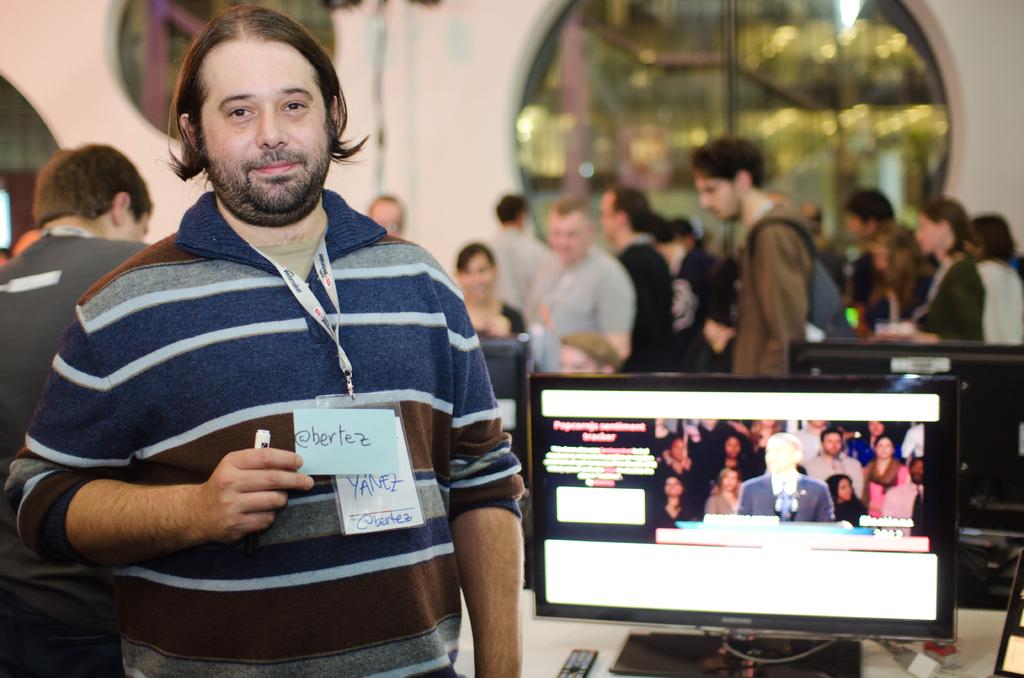Computer-monitor: (526, 360, 960, 658), (783, 336, 1023, 568)
